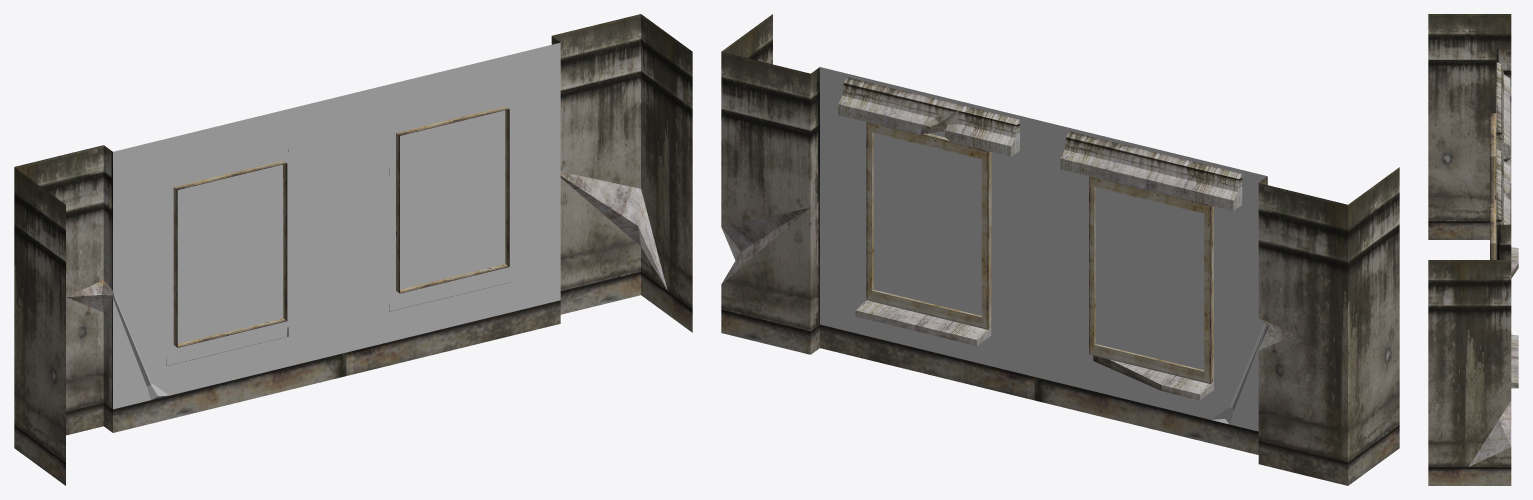
File: Store_front_3_B.fbx
The picture shows the model from 3 angles, left to right: view 1: azimuth 30°, elevation 25°; view 2: azimuth 150°, elevation 25°; view 3: azimuth 270°, elevation 25°; orthographic projection. The views are drawn at different scales.
Parts seen in each view (by area): view 1: Store_front_3_B; view 2: Store_front_3_B; view 3: Store_front_3_B.
Part boxes in pixels (x1,y1,x2,y2): Store_front_3_B: [14, 14, 692, 485]; Store_front_3_B: [721, 14, 1399, 485]; Store_front_3_B: [1428, 14, 1518, 485].
Bounding box in the file's own units: 700 × 300 × 109.
